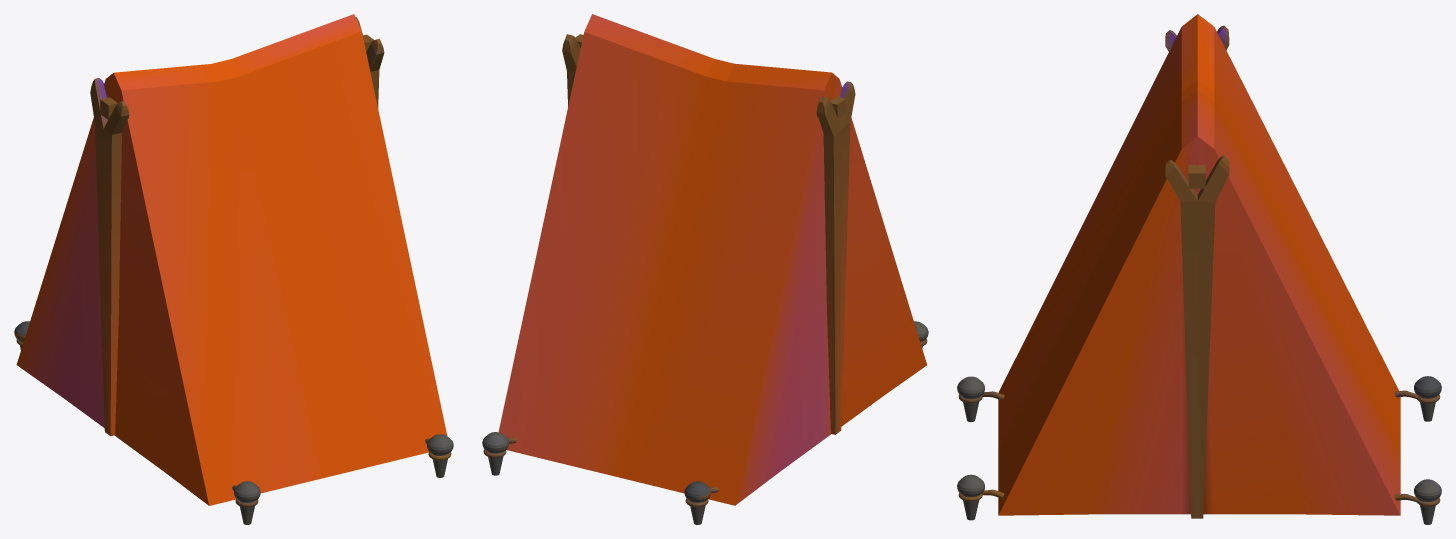
File: CabanaLaranja.fbx
3 views of the same model, side by side, from view 1: azimuth 30°, elevation 25°; view 2: azimuth 150°, elevation 25°; view 3: azimuth 270°, elevation 25° (orthographic). The views are drawn at different scales.
Parts seen in each view (by area): view 1: Cabana Amarela; view 2: Cabana Amarela; view 3: Cabana Amarela.
Boxes of the visible parts, x1,y1,x2,y2 form: Cabana Amarela: [14, 14, 453, 524]; Cabana Amarela: [482, 14, 928, 524]; Cabana Amarela: [957, 14, 1441, 524].
Size of the model in its own units: 302 by 406 by 454.
